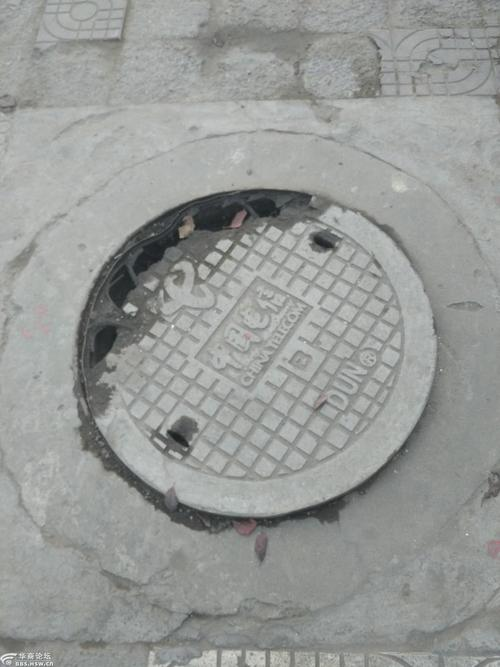broke: (13, 119, 474, 593)
